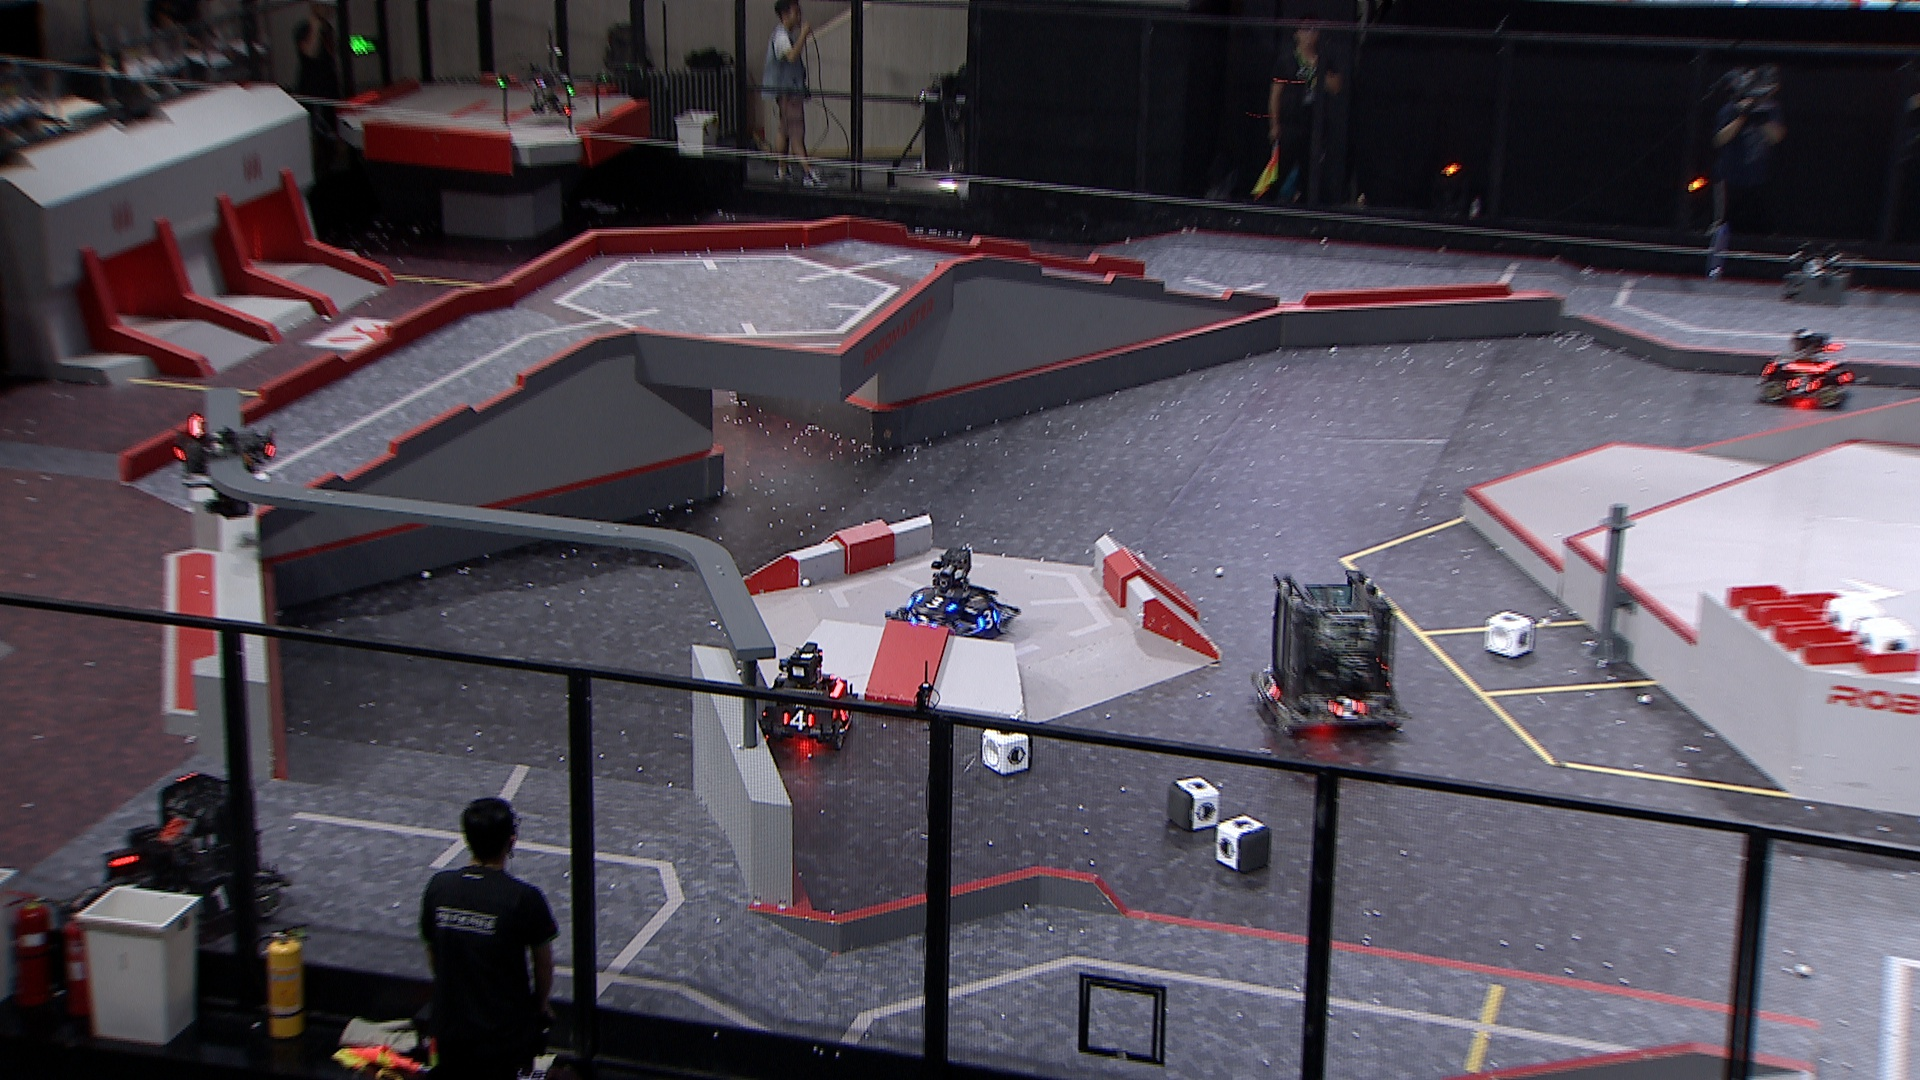armor: (199, 882, 233, 916), (1324, 698, 1370, 723), (781, 707, 818, 735), (918, 593, 960, 617), (1782, 373, 1822, 396), (1258, 676, 1283, 700), (978, 609, 998, 632), (910, 615, 938, 628)
car: (67, 771, 291, 964), (1250, 570, 1411, 741), (882, 542, 1022, 644), (752, 641, 858, 752), (1756, 330, 1858, 410)
watcher: (171, 411, 278, 520)
